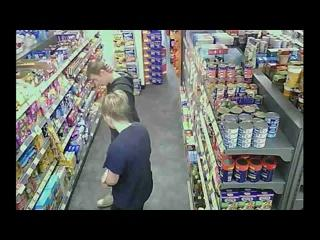Normal: (100, 90, 154, 210), (87, 60, 141, 121)
